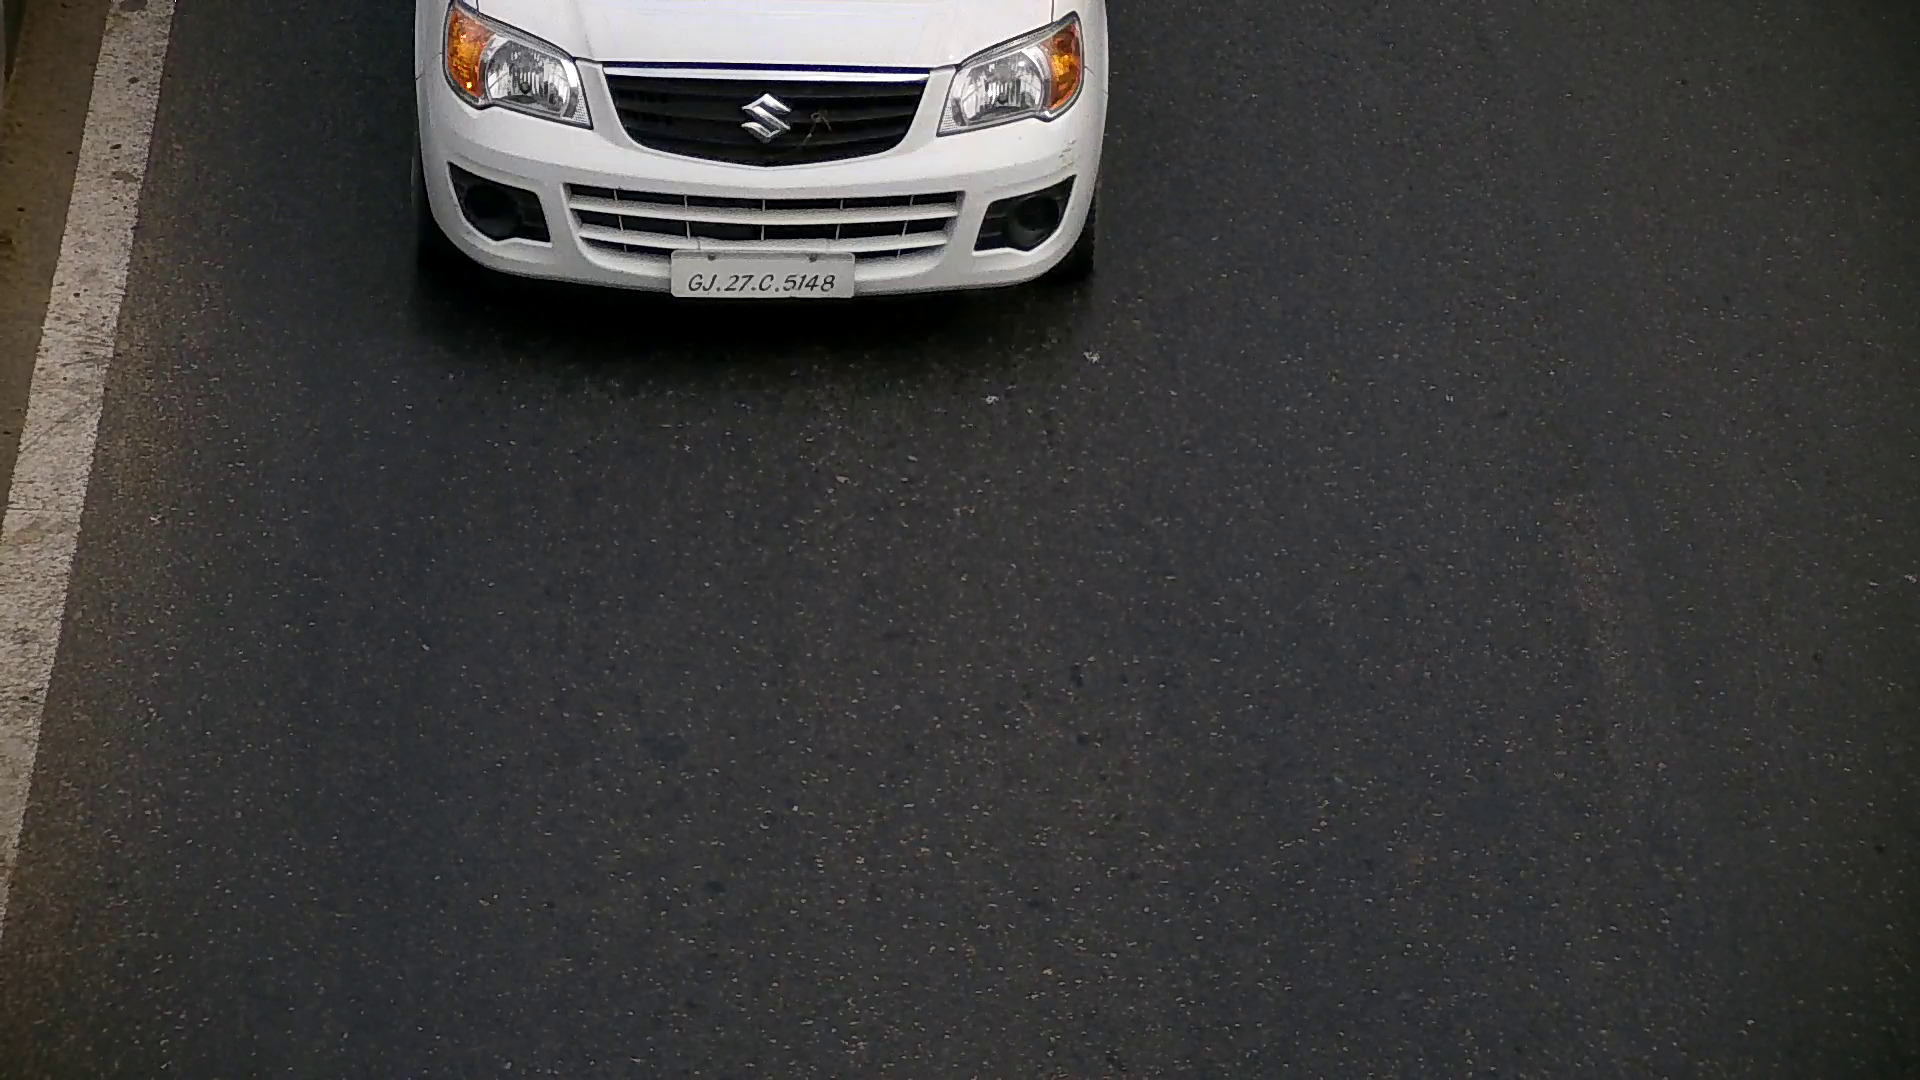numberplate: (665, 250, 857, 302)
